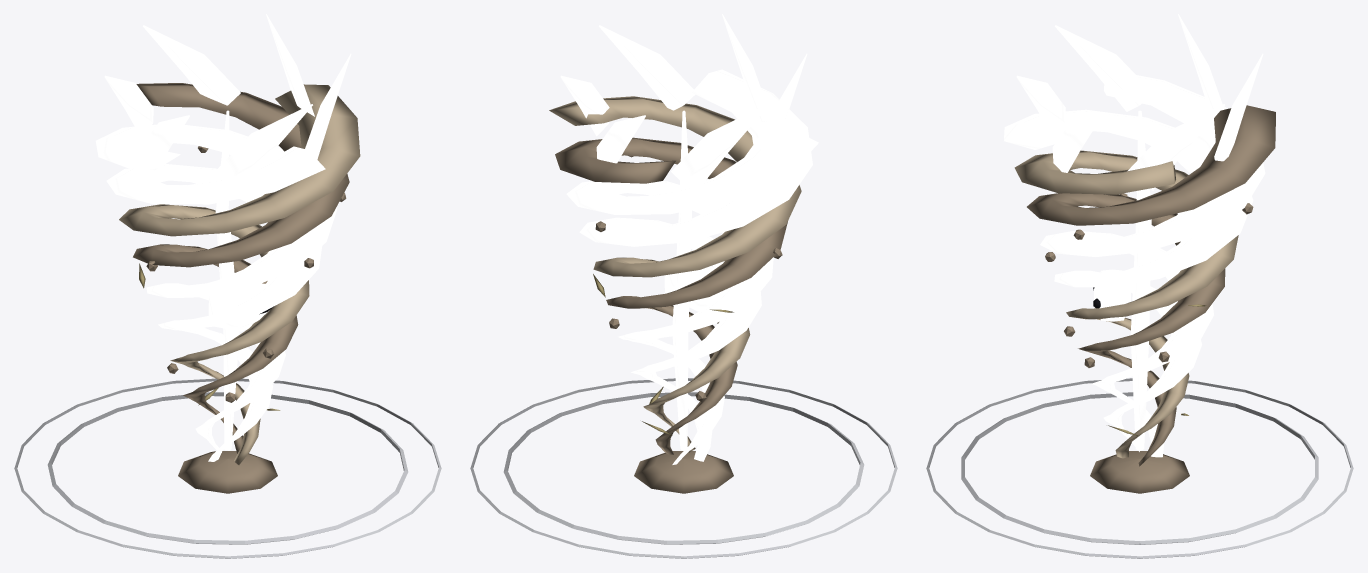
The model's file is ember-fire-whirl.glb.
3 renders of one model, left to right at view 1: azimuth 30°, elevation 25°; view 2: azimuth 150°, elevation 25°; view 3: azimuth 270°, elevation 25°, orthographic.
Parts seen in each view (by area): view 1: ember_fire_whirl; view 2: ember_fire_whirl; view 3: ember_fire_whirl.
Boxes of the visible parts, x1,y1,x2,y2 form: ember_fire_whirl: [14, 14, 441, 558]; ember_fire_whirl: [470, 14, 897, 558]; ember_fire_whirl: [926, 14, 1353, 558].
Size of the model in its own units: 1.01 by 1.06 by 1.01.
